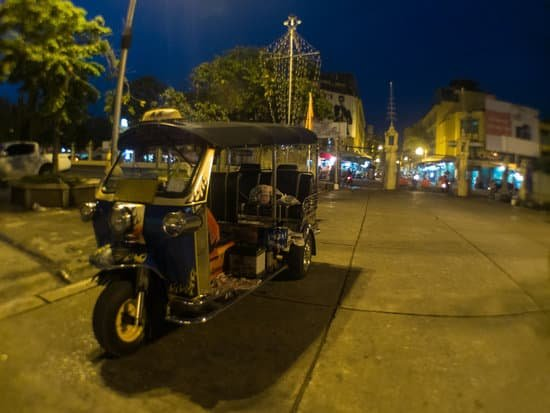threewheel: (79, 107, 318, 357)
